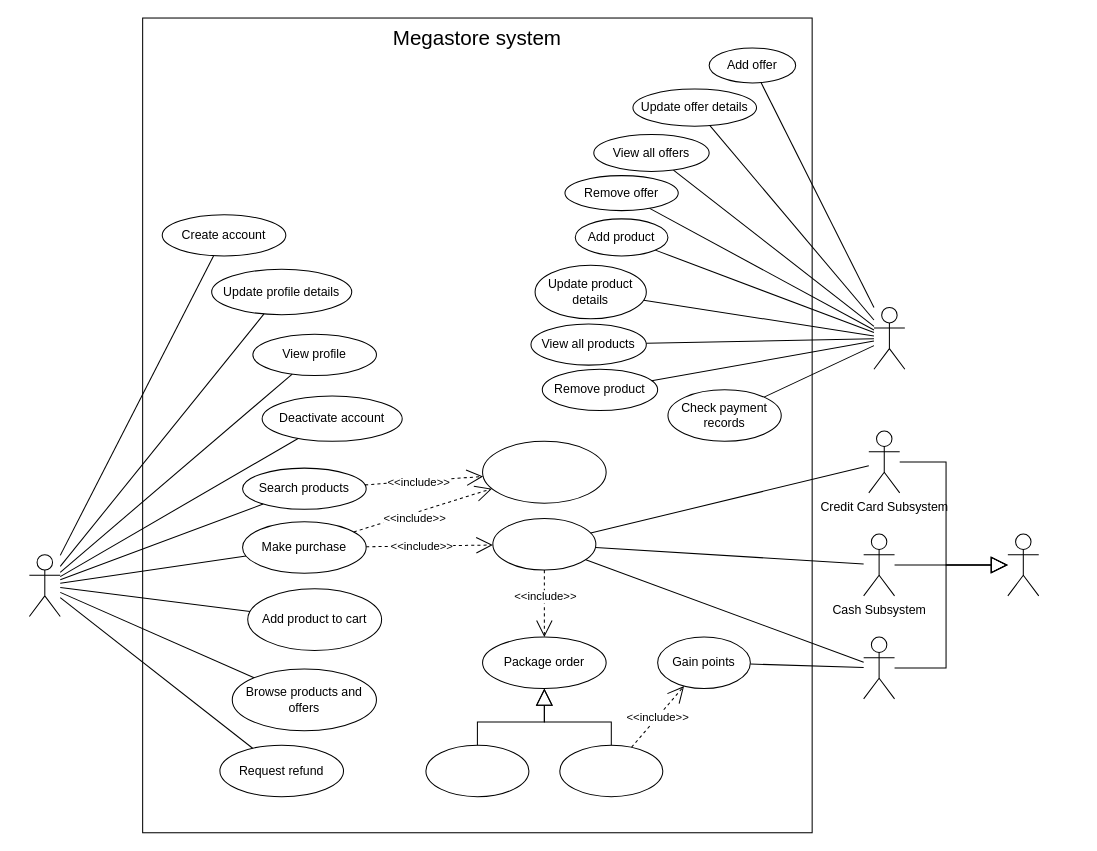
Image size: 1097x851. Some labels were removed from this diagram. Here are the shapes that lost their labels. From the top down, the box of each, then its label:
(873, 306, 905, 369): Admin
(482, 440, 606, 503): Update customer preferences
(492, 518, 596, 570): Checkout
(1007, 533, 1039, 596): Payment Subsystem
(28, 554, 60, 616): Customer
(863, 636, 895, 699): Points Subsystem
(425, 744, 529, 797): Package using normal Bags
(559, 744, 663, 797): Package using special bags
